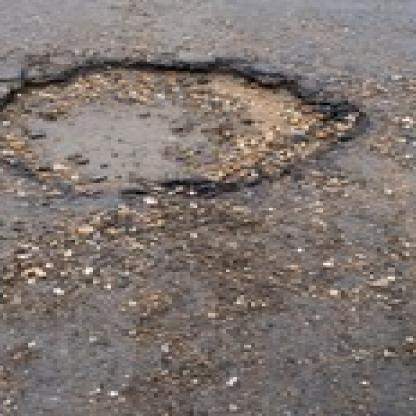pothole: (0, 57, 370, 194)
